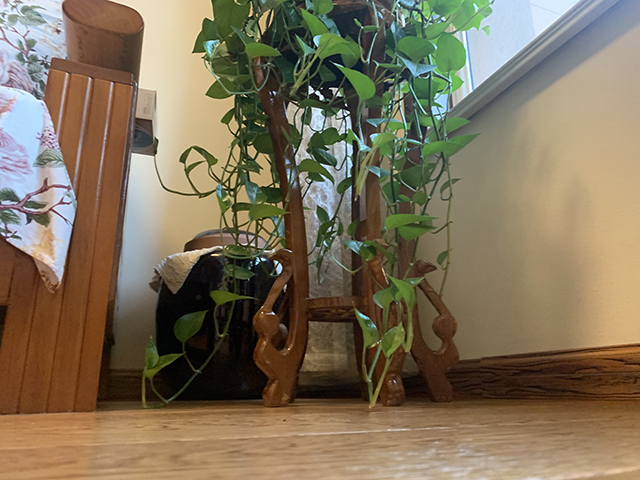sofa: (1, 1, 157, 413)
